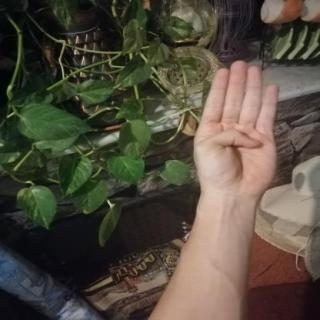KAAF: (179, 49, 294, 207)
